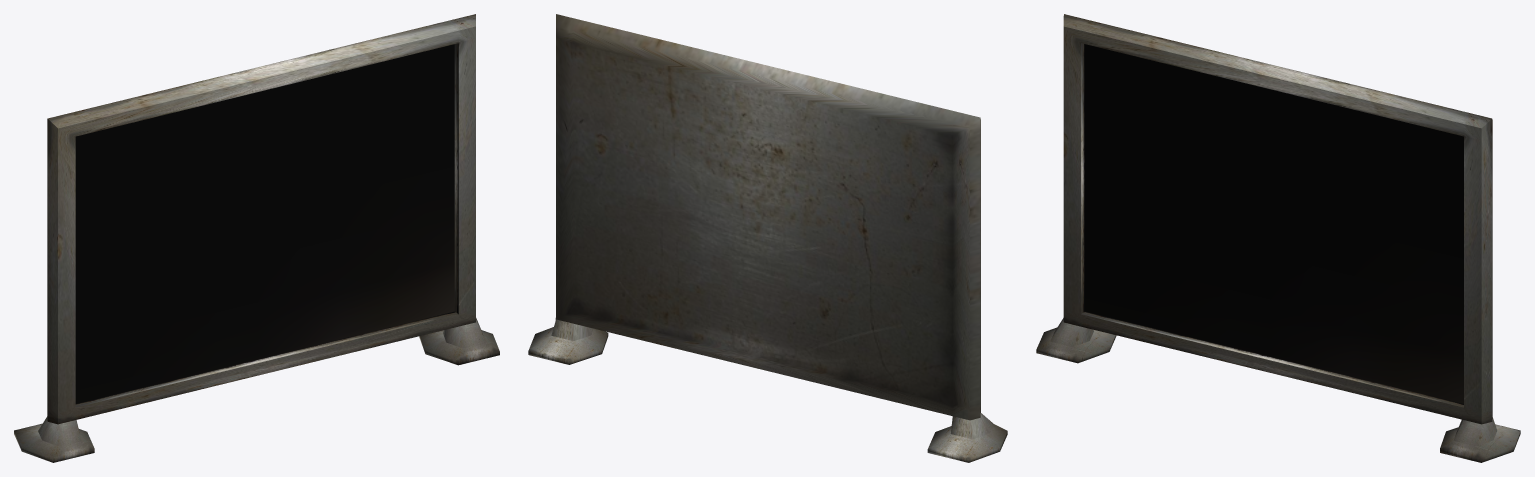
The model's file is black_board.DAE.
3 renders of one model, left to right at view 1: azimuth 30°, elevation 25°; view 2: azimuth 150°, elevation 25°; view 3: azimuth 330°, elevation 25°, orthographic.
Visible parts, largest first — view 1: Box02; view 2: Box02; view 3: Box02.
Part boxes in pixels (x1=…): Box02: x1=14, y1=14, x2=499, y2=462; Box02: x1=528, y1=14, x2=1007, y2=462; Box02: x1=1036, y1=14, x2=1520, y2=462.
Bounding box in the file's own units: 8.52 × 5.76 × 1.26.
